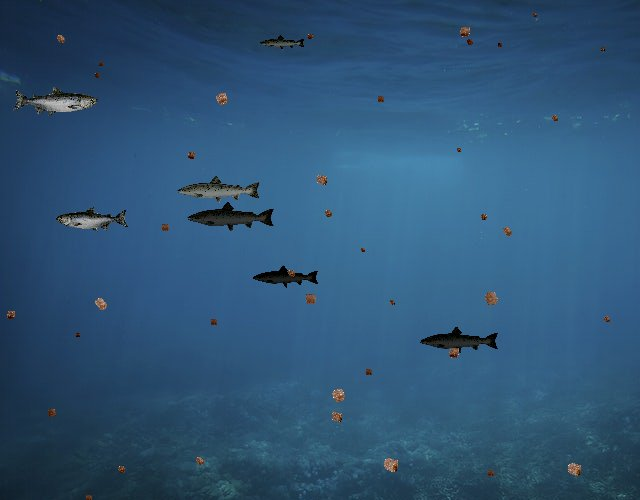Fish: (187, 201, 277, 233), (176, 174, 262, 205), (12, 86, 98, 117), (420, 325, 501, 354), (56, 207, 129, 233), (253, 264, 321, 289), (260, 34, 307, 51)
Pellet: (310, 169, 333, 192), (497, 221, 517, 241), (51, 29, 70, 48), (183, 147, 200, 164), (362, 365, 376, 379), (91, 70, 104, 83), (454, 144, 464, 154)
